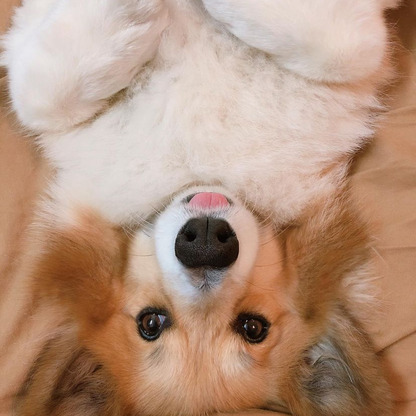Corgi: (3, 5, 412, 410)
